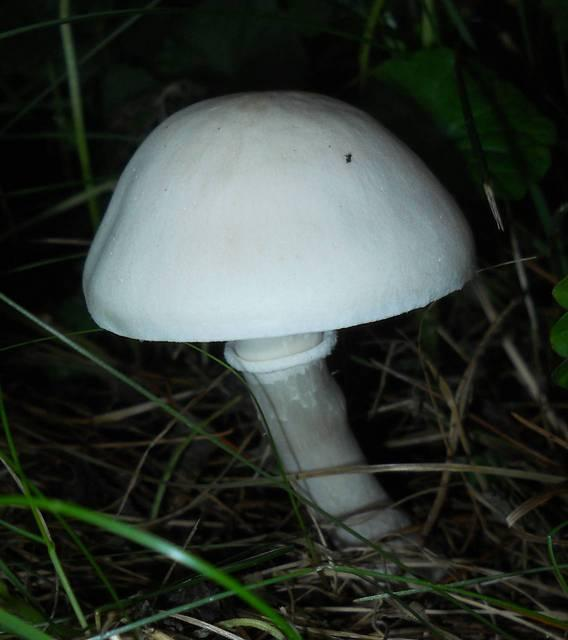Non-edible Mushroom: (80, 88, 477, 550)
